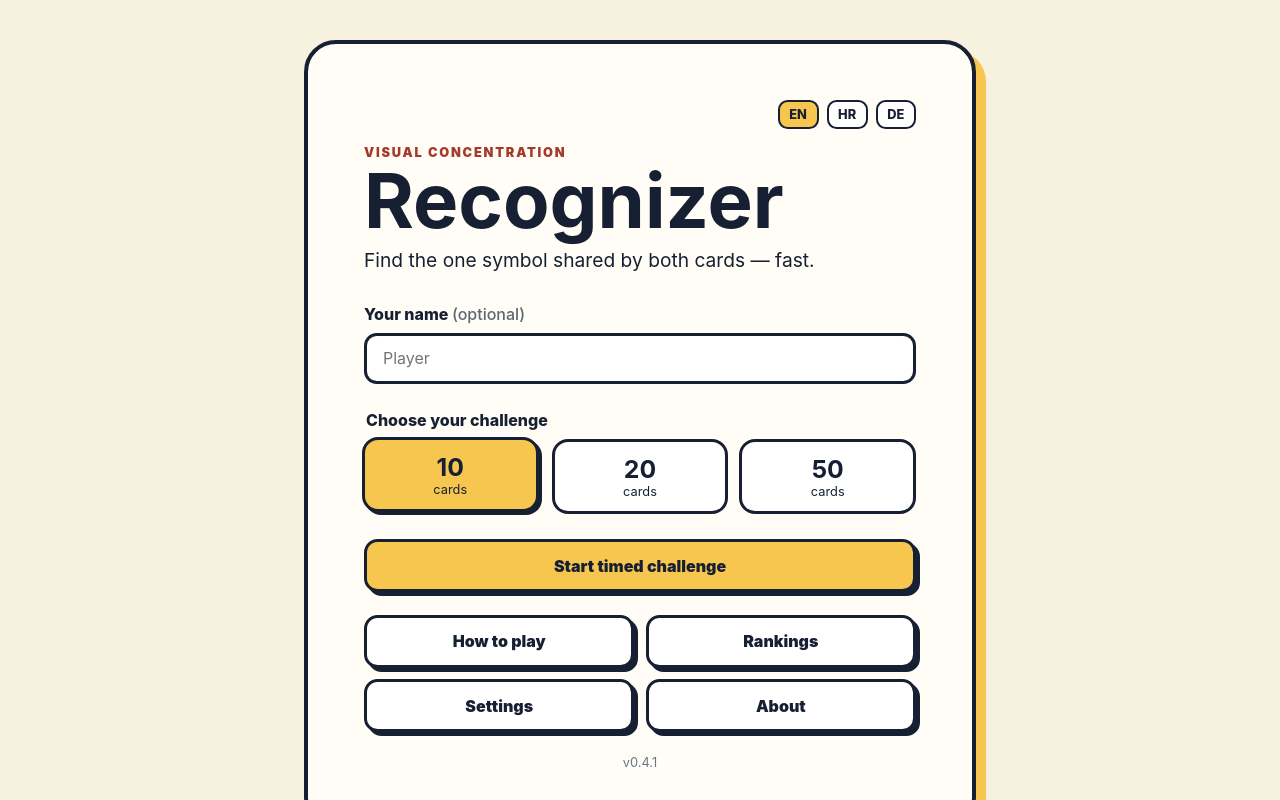
Scenario: App › starts a selected challenge and shows the two game cards
Click the button "20 cards" at (640, 476), box [552,439,728,514]
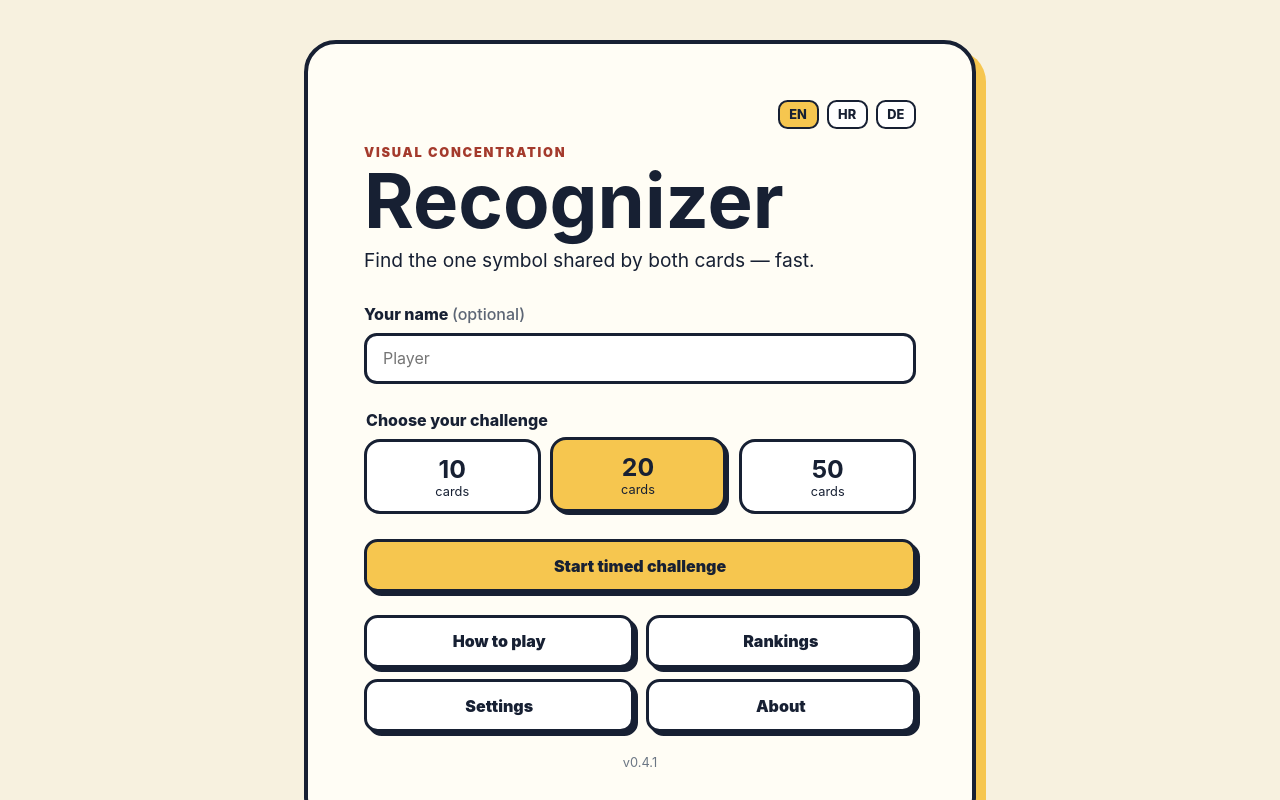
Click the button "Start timed challenge" at (640, 566), box [364,539,916,592]
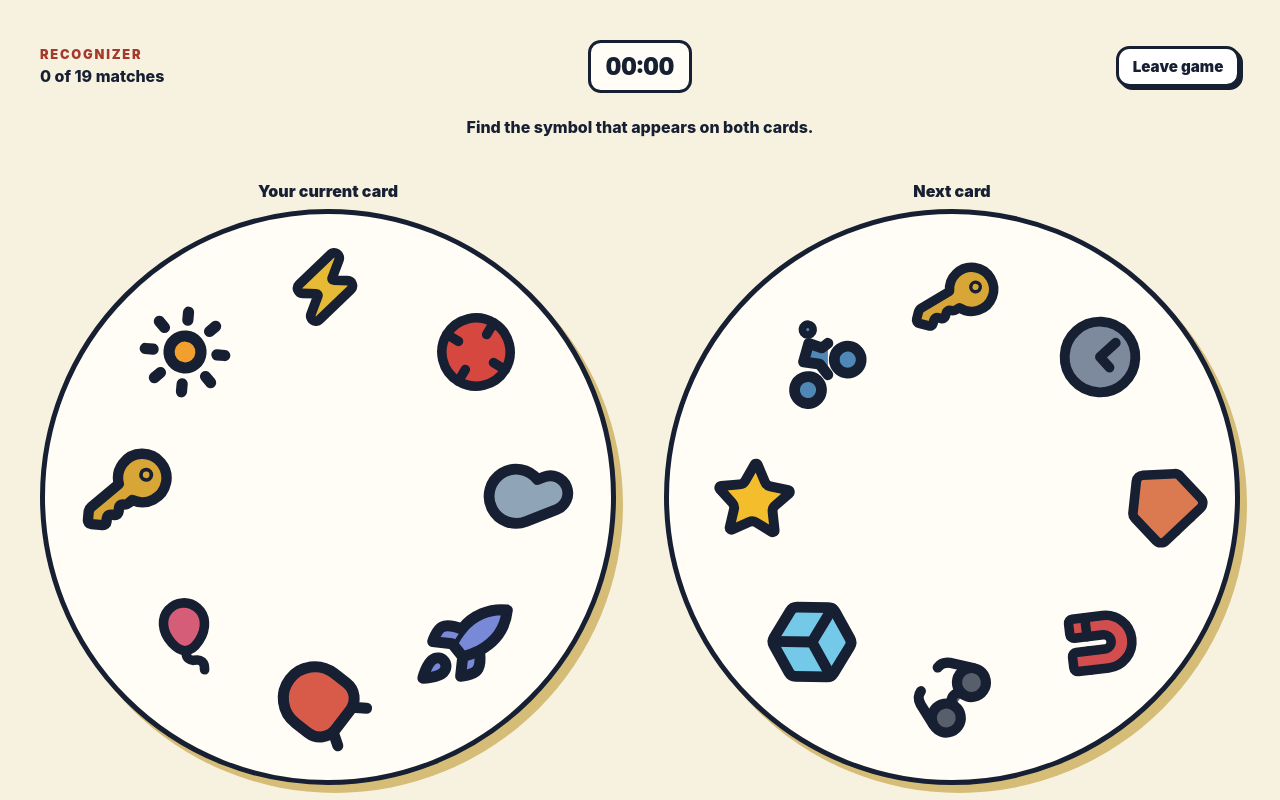
Expected: the element labelled "Your current card" is shown, [40,181,616,785]
Expected: the element labelled "Next card" is shown, [664,181,1240,785]
Expected: the text "0 of 19 matches" is shown, [40,66,164,86]
